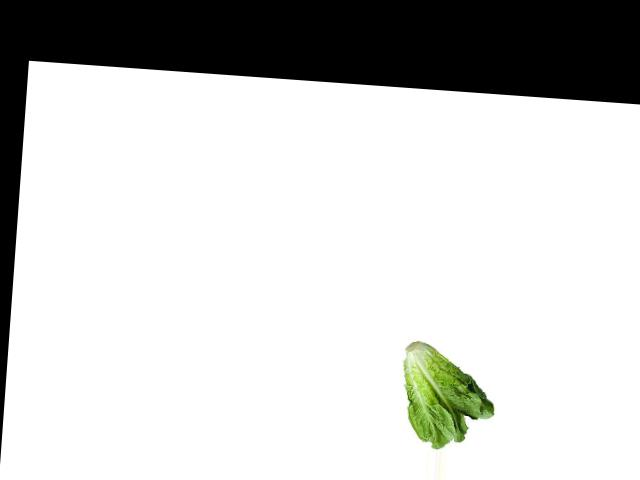lettuce: (394, 340, 502, 455)
